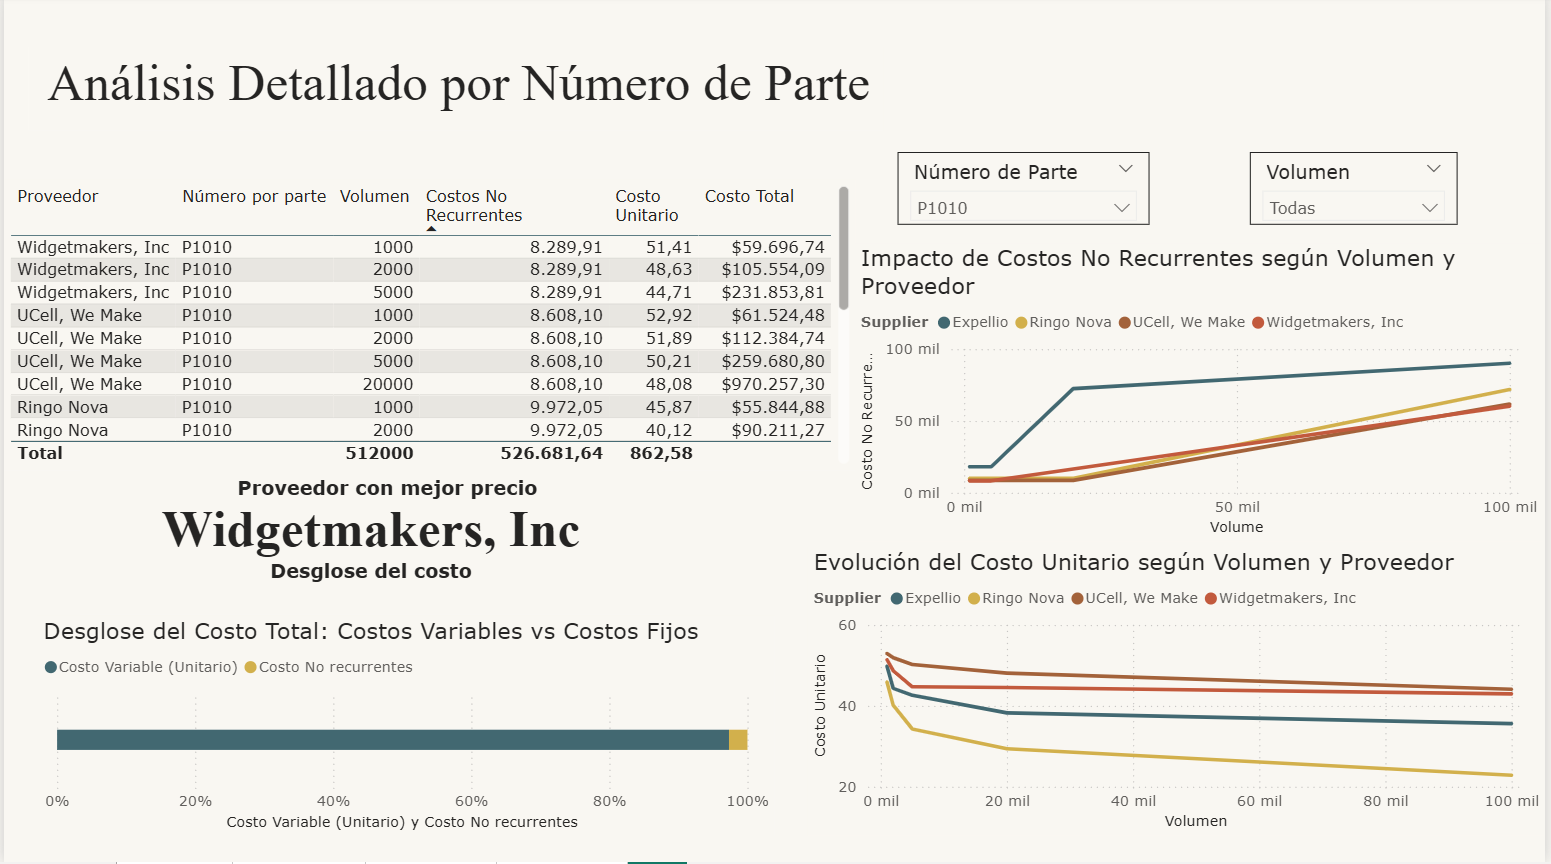

The dashboard page shown, as its layout file describes it:
{"tool":"powerbi","page":{"name":"Página 2","canvas":[1280,720],"ordinal":1},"visuals":[{"type":"tableEx","fields":{"Values":["Quotes.Supplier","Quotes.Part_Number","Sum(Quotes.Volume)","Sum(Quotes.Non_recurring_expenses)","Sum(Quotes.Unit_Cost)","Quotes.FullCost"]},"box":[0,152.8,707.4,241.1],"z":0},{"type":"hundredPercentStackedBarChart","title":"Desglose del Costo Total: Costos Variables vs Costos Fijos","fields":{"Y":["Sum(Quotes.extended_cost)","Sum(Quotes.Non_recurring_expenses)"]},"box":[27.7,515.1,612.5,183.1],"z":1000},{"type":"textbox","box":[63,394.5,483.2,120.8],"z":2000},{"type":"textbox","box":[19.8,43.5,710,69.8],"z":3000},{"type":"lineChart","title":"Impacto de Costos No Recurrentes según Volumen y Proveedor","fields":{"Series":["Quotes.Supplier"],"Y":["Sum(Quotes.Non_recurring_expenses)"],"Category":["Quotes.Volume"]},"box":[707.4,206.8,571.7,247.6],"z":4000},{"type":"lineChart","title":"Evolución del Costo Unitario según Volumen y Proveedor","fields":{"Category":["Quotes.Volume"],"Y":["Sum(Quotes.Unit_Cost)"],"Series":["Quotes.Supplier"]},"box":[667.9,458.4,612.5,239.7],"z":5000},{"type":"slicer","fields":{"Values":["Quotes.Volume"]},"box":[1035.4,130.4,172.6,60.6],"z":6000},{"type":"slicer","fields":{"Values":["Quotes.Part_Number"]},"box":[742.9,130.4,209.4,60.6],"z":7000}]}

Visuals, with their boxes in screenshot pixels (x1, y1, x2, y2), scaled from the page's 1280x720 canvas onto the 1551x864 screenshot:
tableEx - Quotes.Supplier x Quotes.Part_Number: l=0, t=183, r=857, b=473
"Desglose del Costo Total: Costos Variables vs Costos Fijos" hundredPercentStackedBarChart: l=34, t=618, r=776, b=838
textbox: l=76, t=473, r=662, b=618
textbox: l=24, t=52, r=884, b=136
"Impacto de Costos No Recurrentes según Volumen y Proveedor" lineChart: l=857, t=248, r=1550, b=545
"Evolución del Costo Unitario según Volumen y Proveedor" lineChart: l=809, t=550, r=1550, b=838
slicer - Quotes.Volume: l=1255, t=156, r=1464, b=229
slicer - Quotes.Part_Number: l=900, t=156, r=1154, b=229
